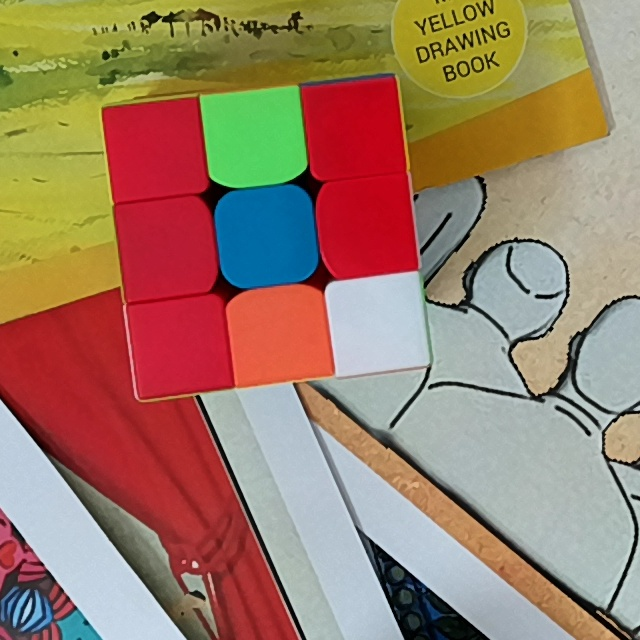tile: (134, 306, 222, 383), (313, 87, 396, 168), (125, 205, 208, 285), (114, 108, 198, 187), (335, 284, 418, 363), (209, 98, 297, 170), (225, 198, 305, 276), (241, 293, 319, 372), (331, 184, 407, 263)
